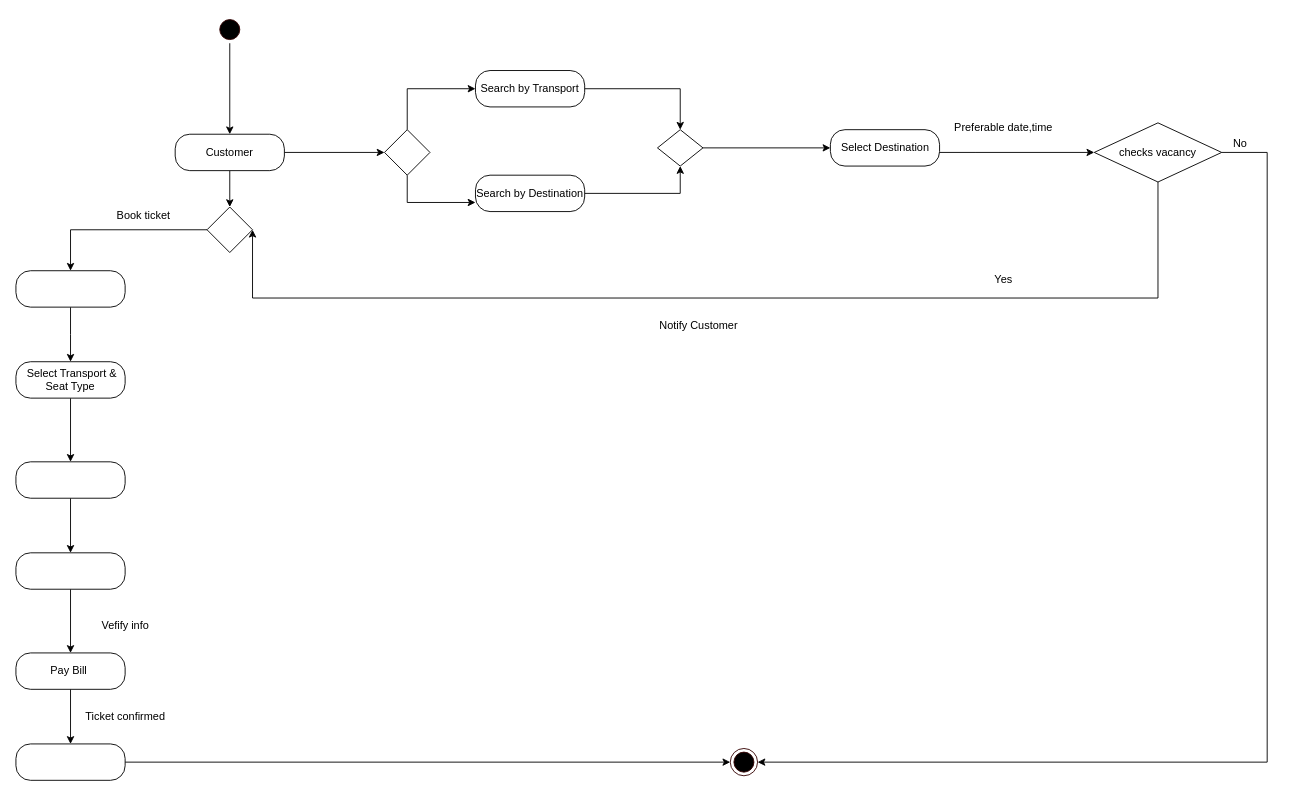
The diagram is 1290 pixels wide and 796 high, and some of its shapes have lost their labels. The centre of each missing label's shape, as x and y in pixels:
Admins shows Paybale Amount: the point at 70,479
Credit Card Info: the point at 70,570
Login: the point at 70,288
Purchase Ticket: the point at 70,761
